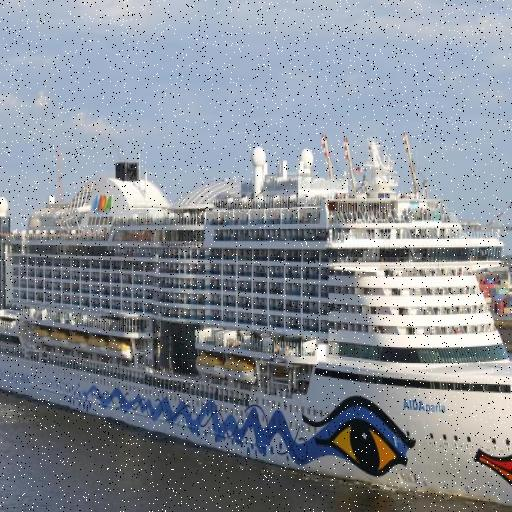cruises: (1, 136, 512, 512)
